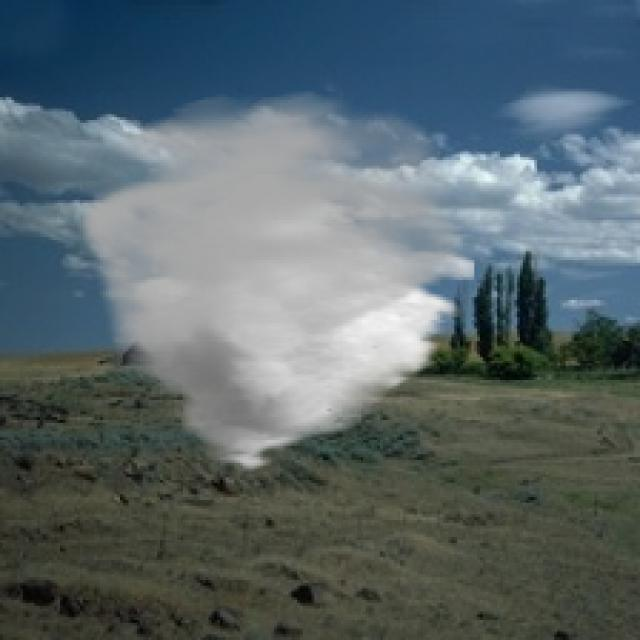Smoke: (74, 92, 474, 474)
